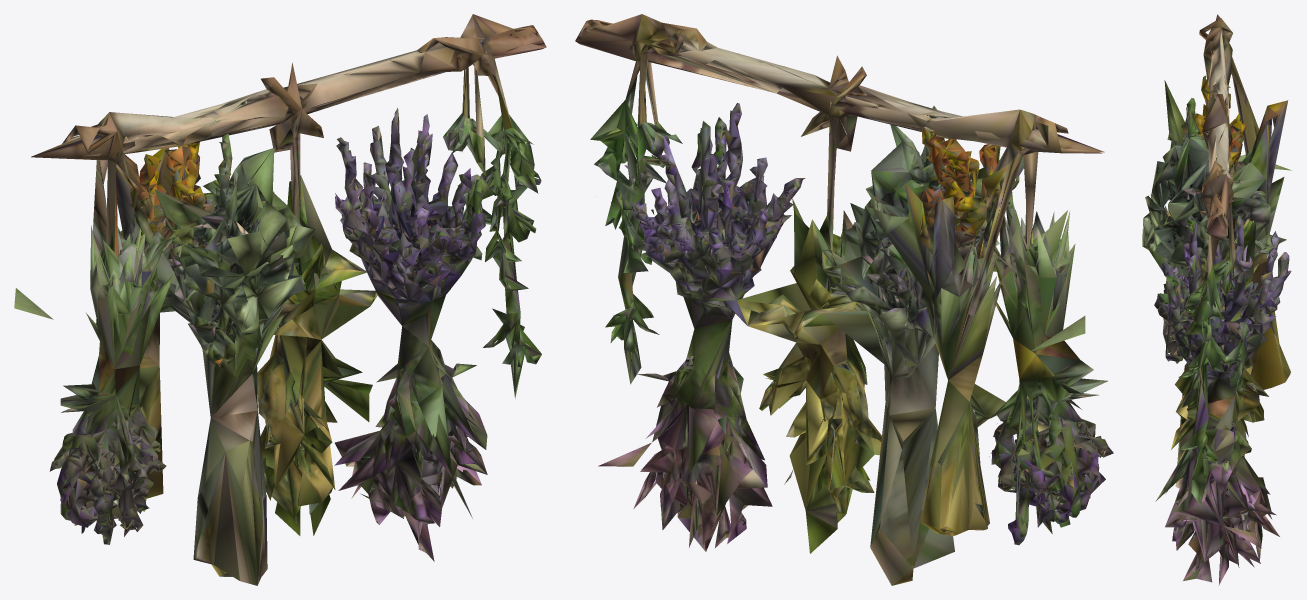
Rendered from Herbal_Harvest.glb.
The picture shows the model from 3 angles, left to right: view 1: azimuth 30°, elevation 25°; view 2: azimuth 150°, elevation 25°; view 3: azimuth 270°, elevation 25°; orthographic projection. The views are drawn at different scales.
Visible parts, largest first — view 1: Herbal_Harvest; view 2: Herbal_Harvest; view 3: Herbal_Harvest.
Boxes of the visible parts, x1,y1,x2,y2 form: Herbal_Harvest: [14, 14, 546, 585]; Herbal_Harvest: [575, 14, 1113, 585]; Herbal_Harvest: [1142, 14, 1291, 585].
Size of the model in its own units: 1.87 by 1.81 by 0.5629.
1 material, 1 textured.
